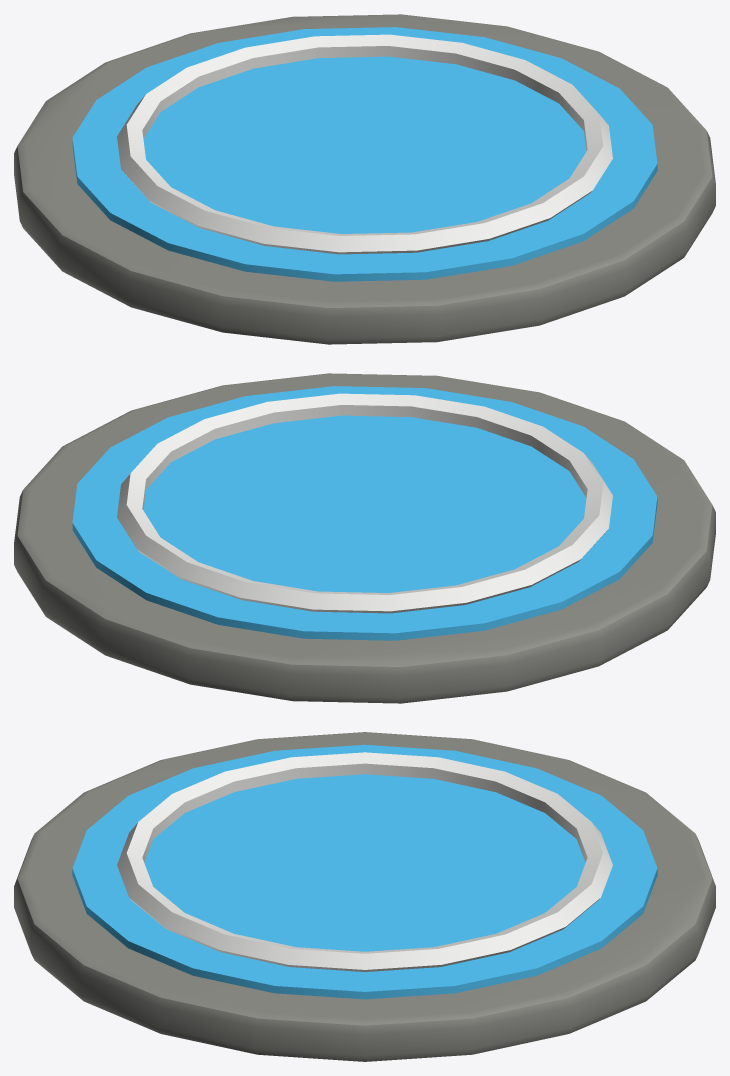
Rendered from SpawnPad.fbx.
3 views of the same model, one above another, from view 1: azimuth 30°, elevation 25°; view 2: azimuth 150°, elevation 25°; view 3: azimuth 270°, elevation 25° (orthographic).
Parts seen in each view (by area): view 1: SpawnPad; view 2: SpawnPad; view 3: SpawnPad.
Part boxes in pixels (bbox=[...]): SpawnPad: bbox=[14, 14, 715, 344]; SpawnPad: bbox=[14, 373, 715, 703]; SpawnPad: bbox=[14, 732, 715, 1061].
Bounding box in the file's own units: 6 × 0.6141 × 6.
Materials: 1 (1 with a texture image).
